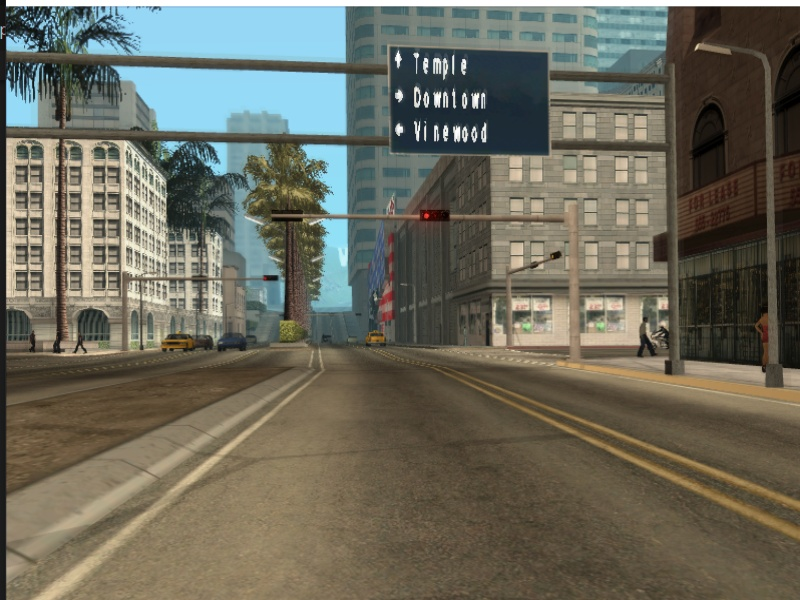person: (755, 306, 774, 371), (638, 315, 658, 360), (74, 327, 89, 354), (26, 330, 40, 354)
pole: (752, 47, 798, 386), (662, 73, 698, 375), (562, 206, 590, 365), (504, 270, 519, 350), (121, 272, 131, 352), (138, 280, 145, 351)
tree: (54, 85, 74, 349), (280, 216, 297, 320)
vehicle: (158, 331, 196, 353), (216, 330, 247, 353), (366, 330, 388, 348), (198, 333, 214, 353), (345, 334, 359, 346), (319, 332, 332, 343)
